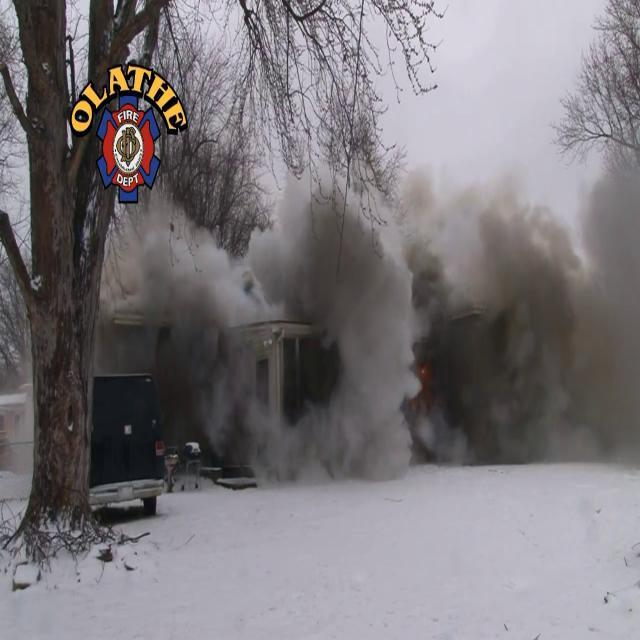Smoke: (113, 108, 640, 490)
